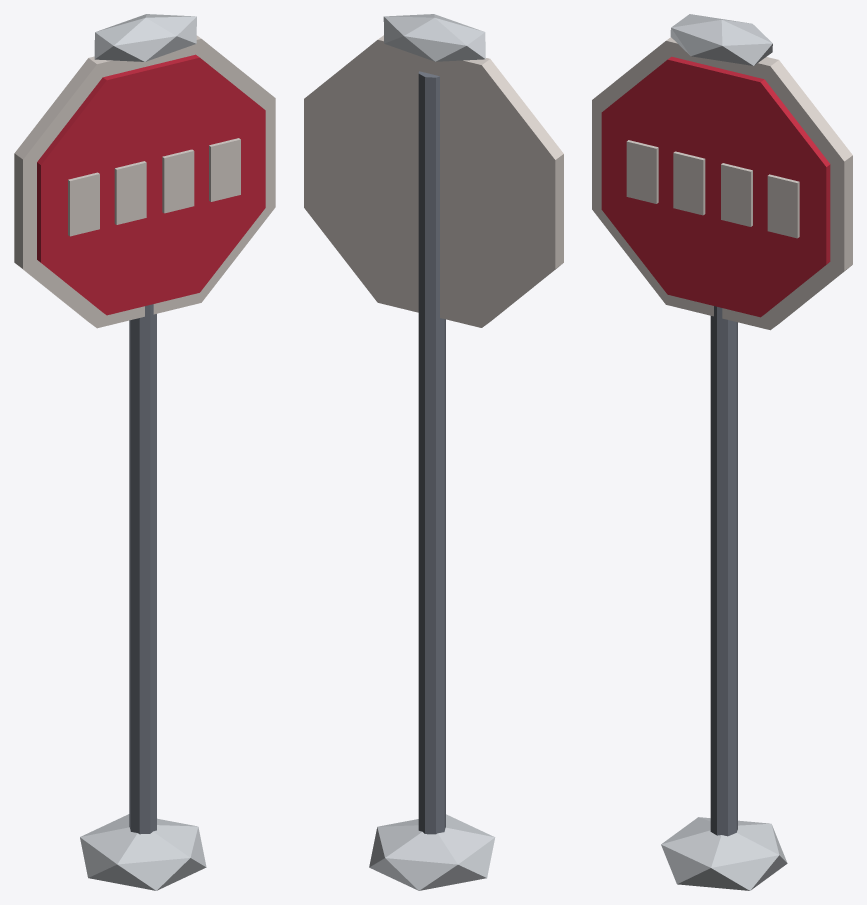
The model's file is StopSign.glb.
3 views of the same model, side by side, from view 1: azimuth 30°, elevation 25°; view 2: azimuth 150°, elevation 25°; view 3: azimuth 330°, elevation 25° (orthographic).
Visible parts, largest first — view 1: StopSign; view 2: StopSign; view 3: StopSign.
Part boxes in pixels (<box>): StopSign: <box>14,14,275,890</box>; StopSign: <box>304,14,563,890</box>; StopSign: <box>592,14,852,890</box>.
Bounding box in the file's own units: 2.86 × 9.37 × 1.19.
